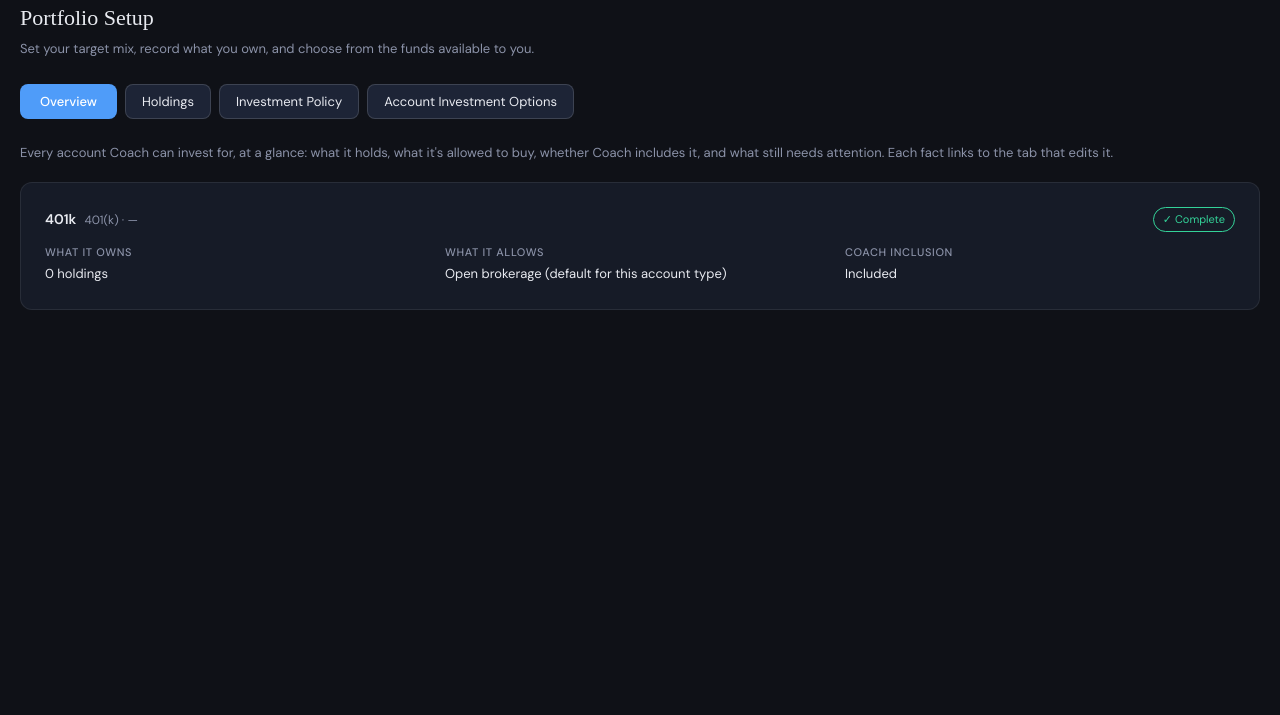
it: PortfolioSetup workflows › groups policy targets and accurately explains an enabled glide path
Click the button "Investment Policy": (289,102) [219, 84, 359, 119]
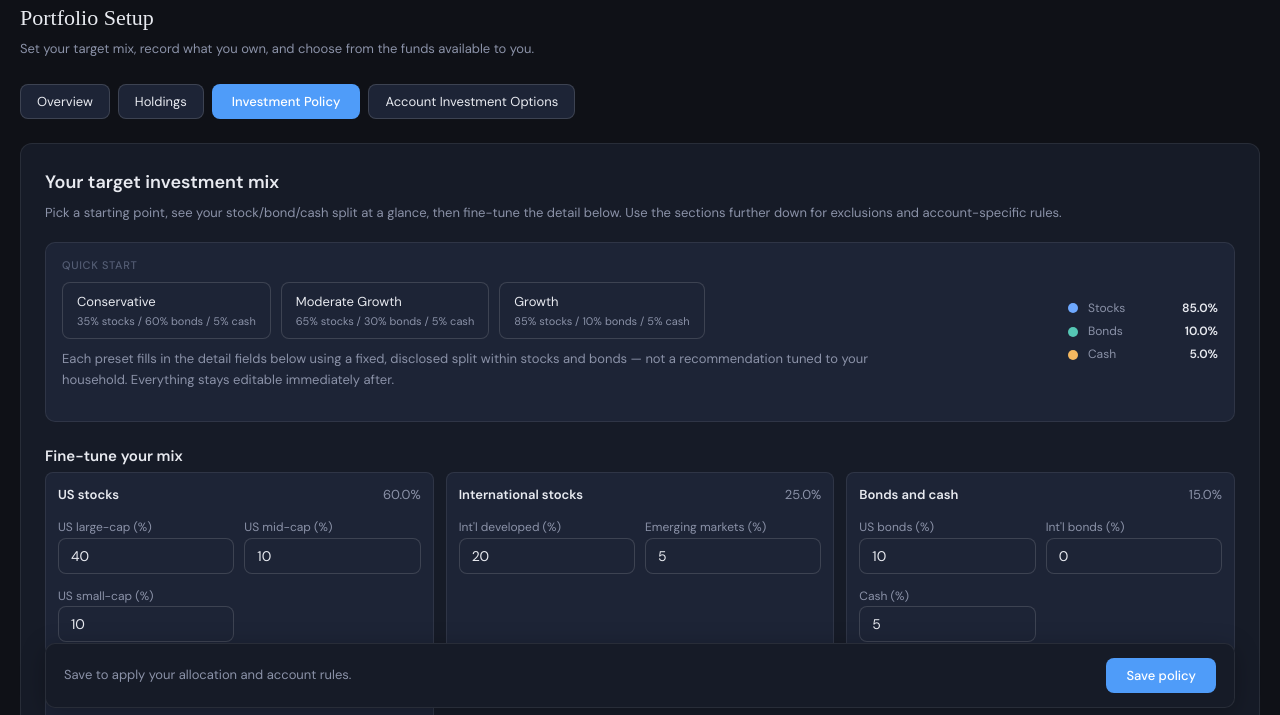
Check: the text "US stocks" is shown, box [58, 485, 119, 505]
Check: the text "International stocks" is shown, box [459, 485, 583, 505]
Check: the text "Bonds and cash" is shown, box [859, 485, 958, 505]
